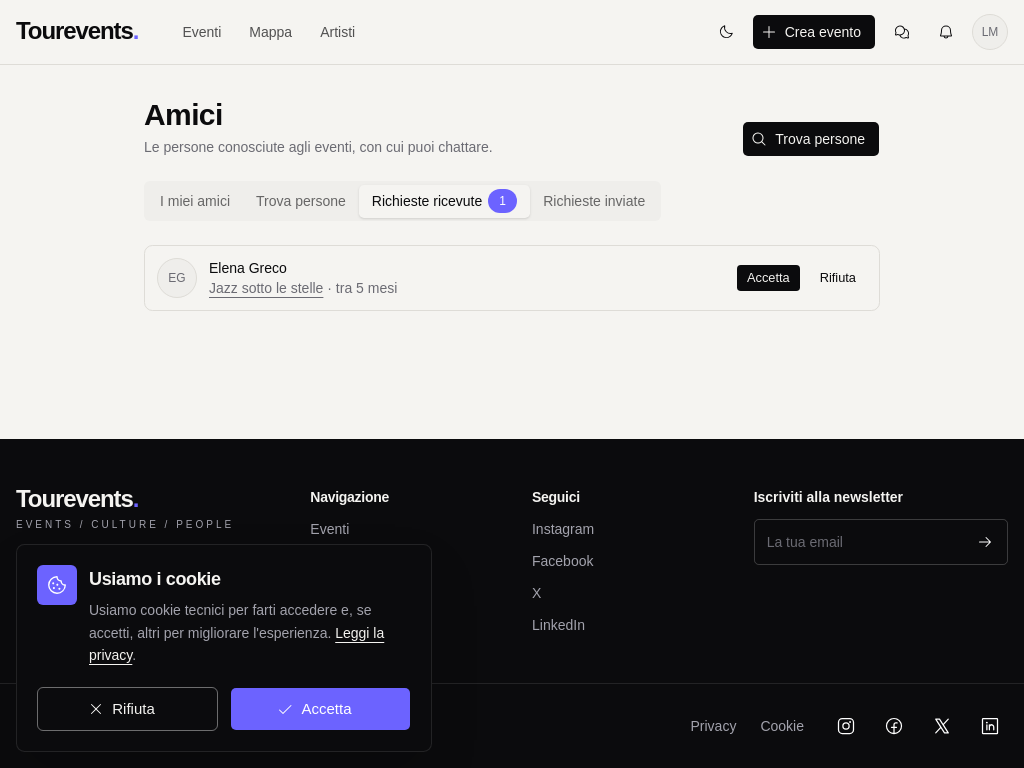
Test: FriendsPage: richieste › rifiuta: POST e la richiesta sparisce
What coordinates should you click on to do the following:
click the button with aria-label "Rifiuta la richiesta di Elena Greco"
I would click on:
 (838, 278)
Its box is [809,264,867,292].
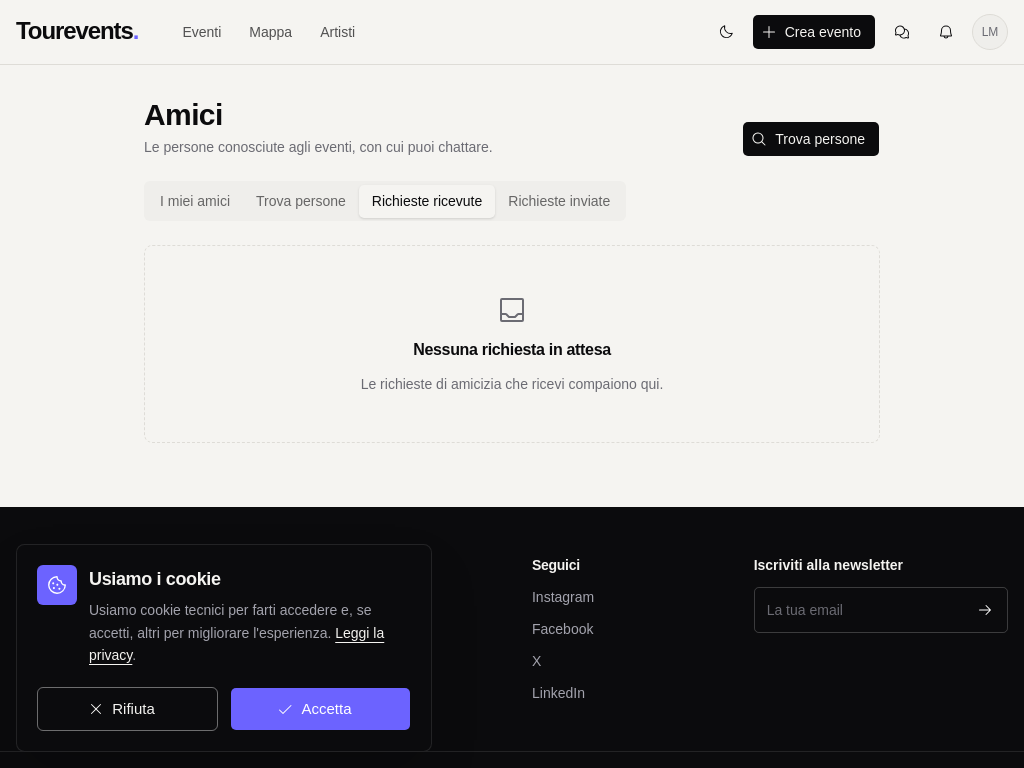
expect the heading "Nessuna richiesta in attesa" is shown: met, box [413,338,611,362]
